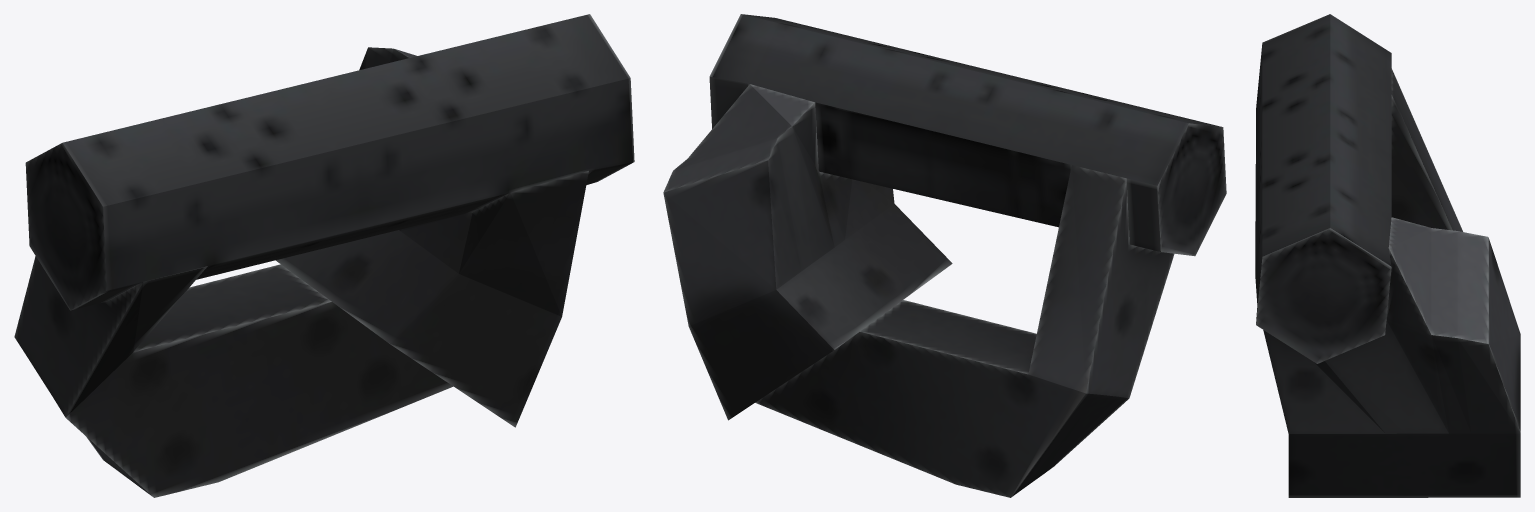
The model's file is l_lglut.dae.
The picture shows the model from 3 angles, left to right: view 1: azimuth 30°, elevation 25°; view 2: azimuth 150°, elevation 25°; view 3: azimuth 270°, elevation 25°; orthographic projection. The views are drawn at different scales.
Parts seen in each view (by area): view 1: drc_l_lglut; view 2: drc_l_lglut; view 3: drc_l_lglut.
Part boxes in pixels (left/top/right/bottom): drc_l_lglut: left=14, top=14, right=634, bottom=497; drc_l_lglut: left=663, top=14, right=1226, bottom=497; drc_l_lglut: left=1255, top=14, right=1520, bottom=497.
Size of the model in its own units: 0.144 by 0.0748 by 0.1063.
Materials: 1 (1 with a texture image).
